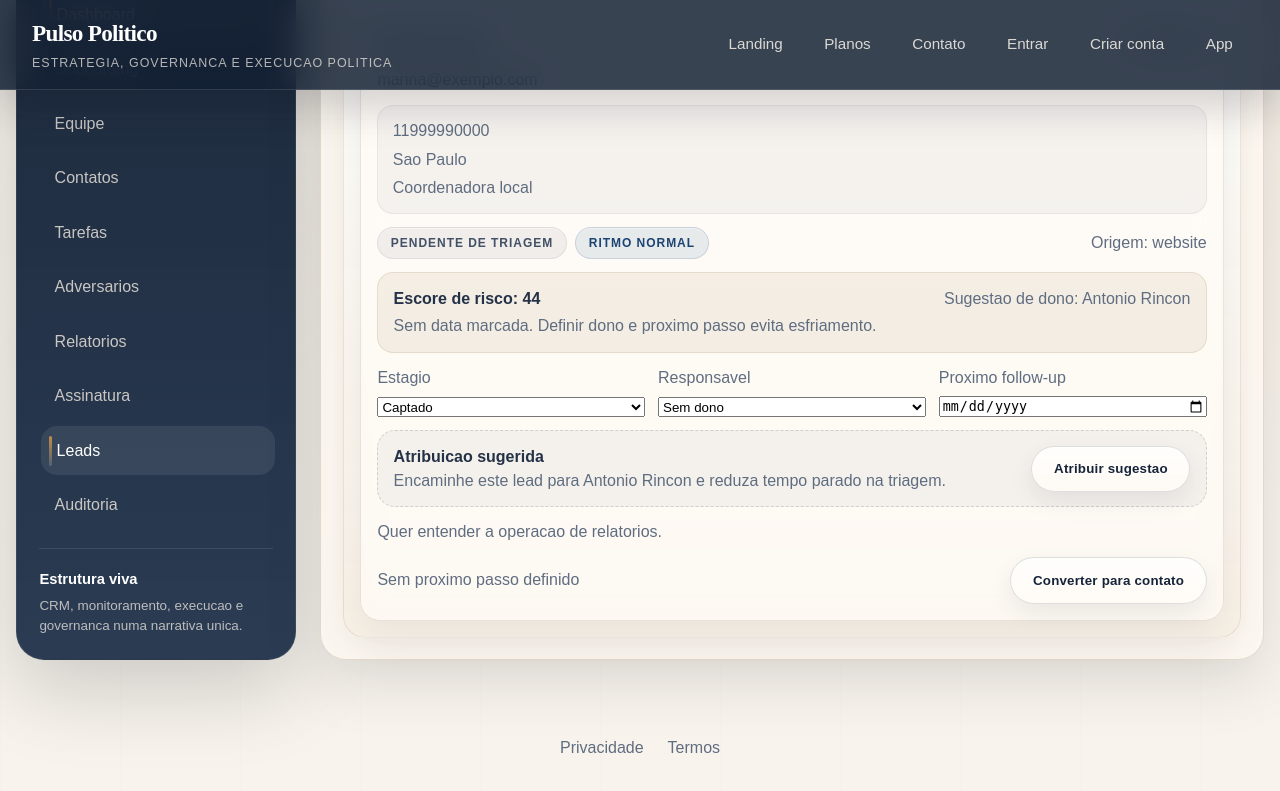
Test: App authenticated flows › atualiza o funil e filtra leads por estagio
(page scrolled)
Select "Em follow-up" in the dropdown showing "Captado" at (511, 407), box [377,397,645,418]
(page scrolled)
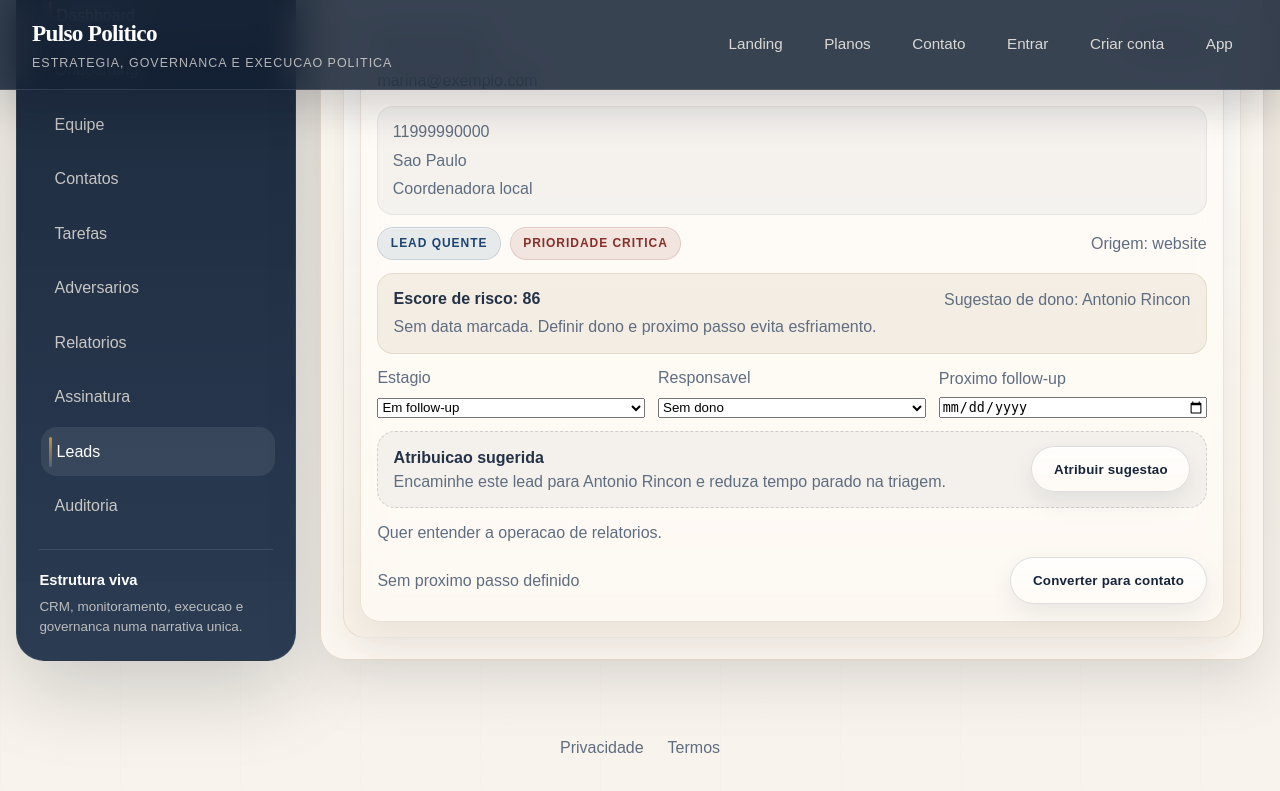
Click the button "Atribuir sugestao" at (1111, 469), box [1032,446,1190,492]
(page scrolled)
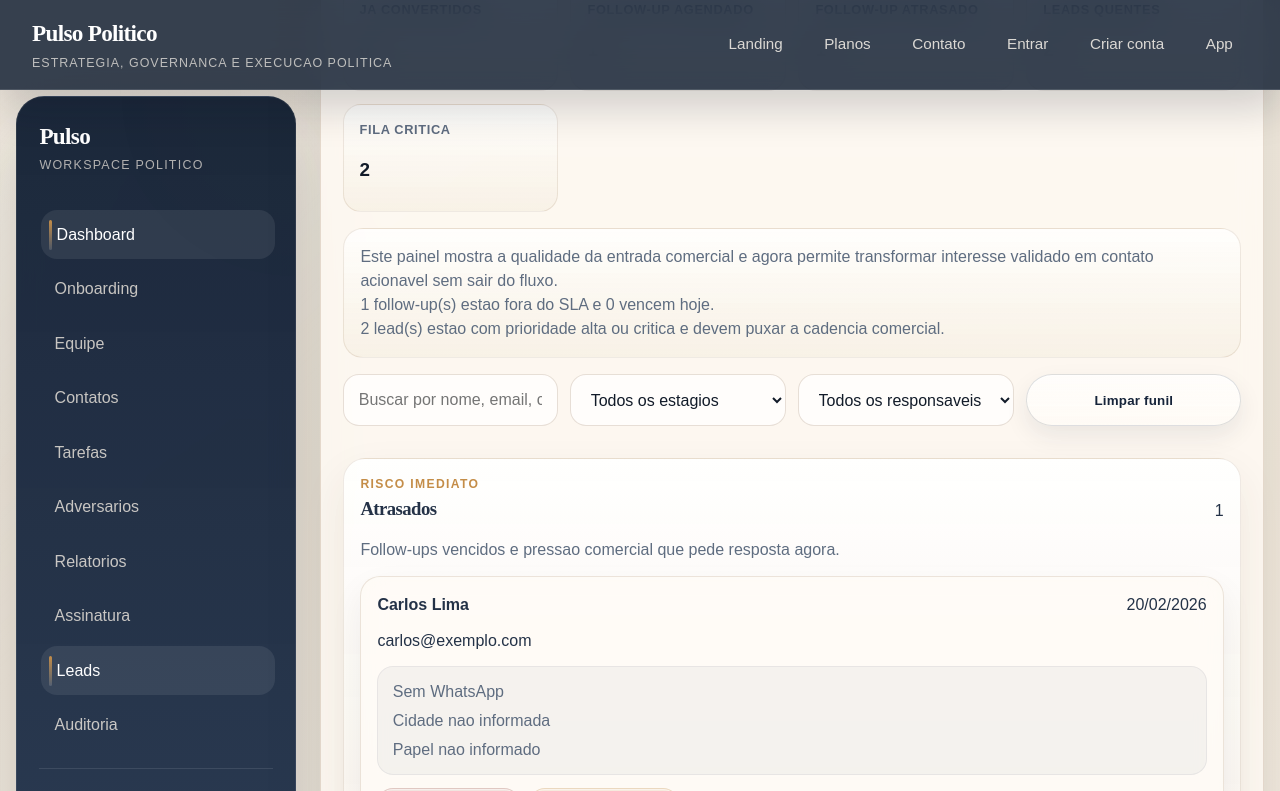
Select "Em follow-up" in the 1st dropdown showing "Todos os estagios" at (678, 400), box [570,374,786,426]
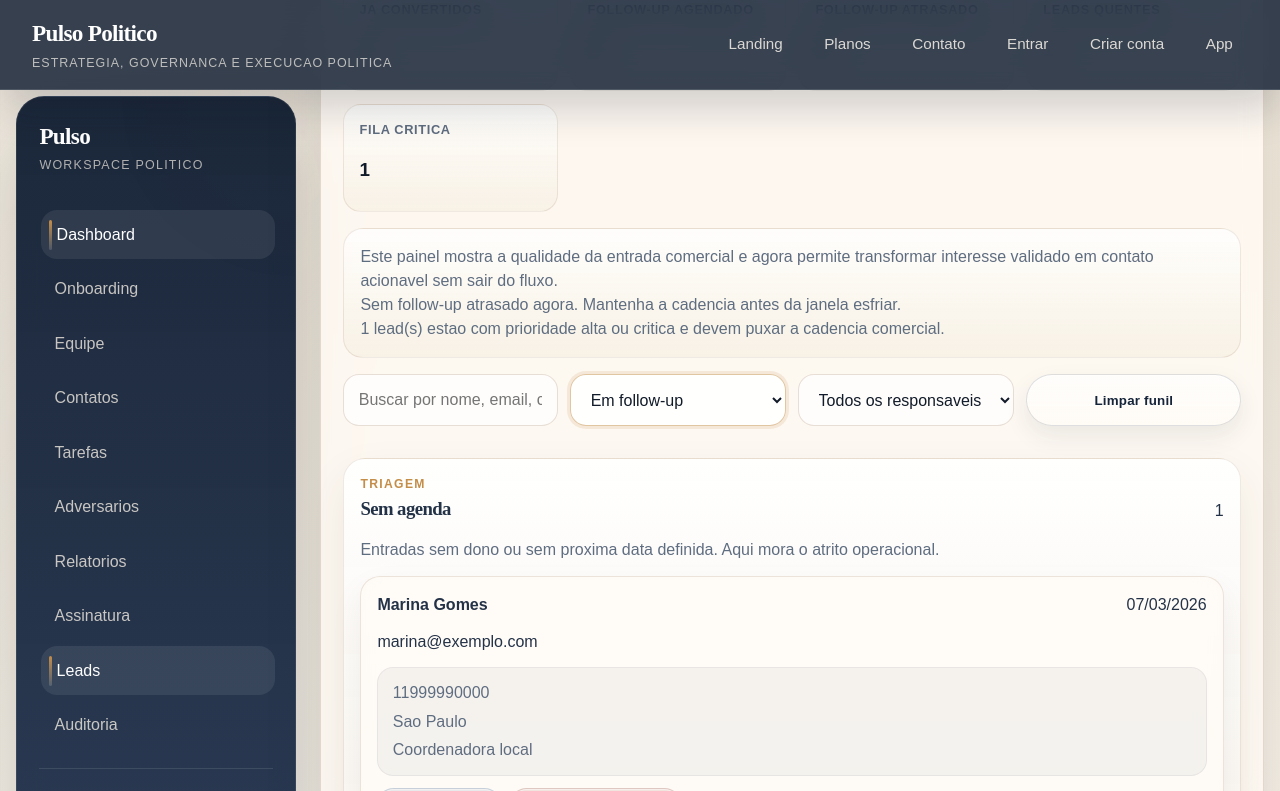
Expected: the text "Marina Gomes" is shown, [377,593,488,617]
Expected: the text "Carlos Lima" is gone
